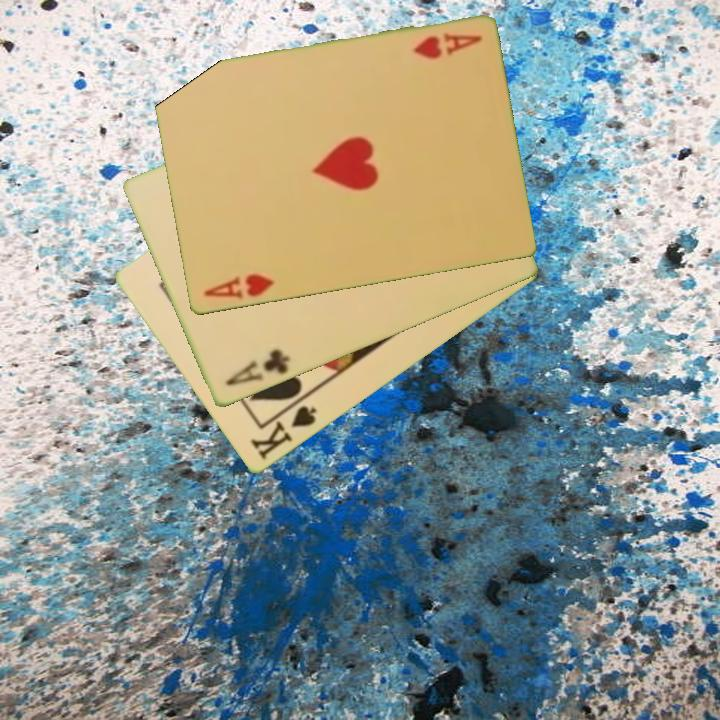Ac: (222, 345, 293, 390)
Ah: (410, 29, 485, 62), (200, 271, 277, 303)
Ks: (247, 393, 320, 464)
